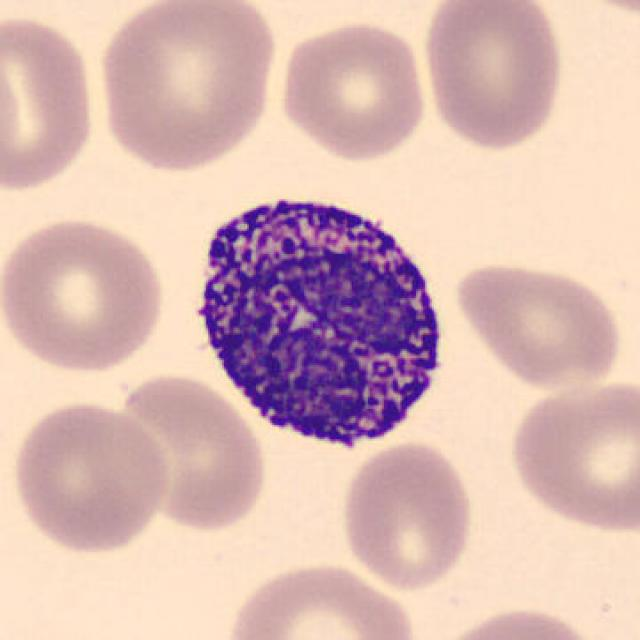Basophil: (178, 174, 466, 470)
RBC: (92, 0, 281, 175), (0, 212, 171, 376), (108, 368, 272, 536), (7, 397, 174, 557), (450, 258, 626, 392), (418, 0, 569, 153), (276, 16, 432, 164), (336, 438, 478, 592), (503, 376, 638, 534), (0, 7, 101, 199), (220, 557, 422, 640), (430, 603, 603, 640), (554, 0, 640, 17)
